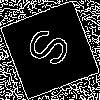S: (25, 25, 81, 74)
